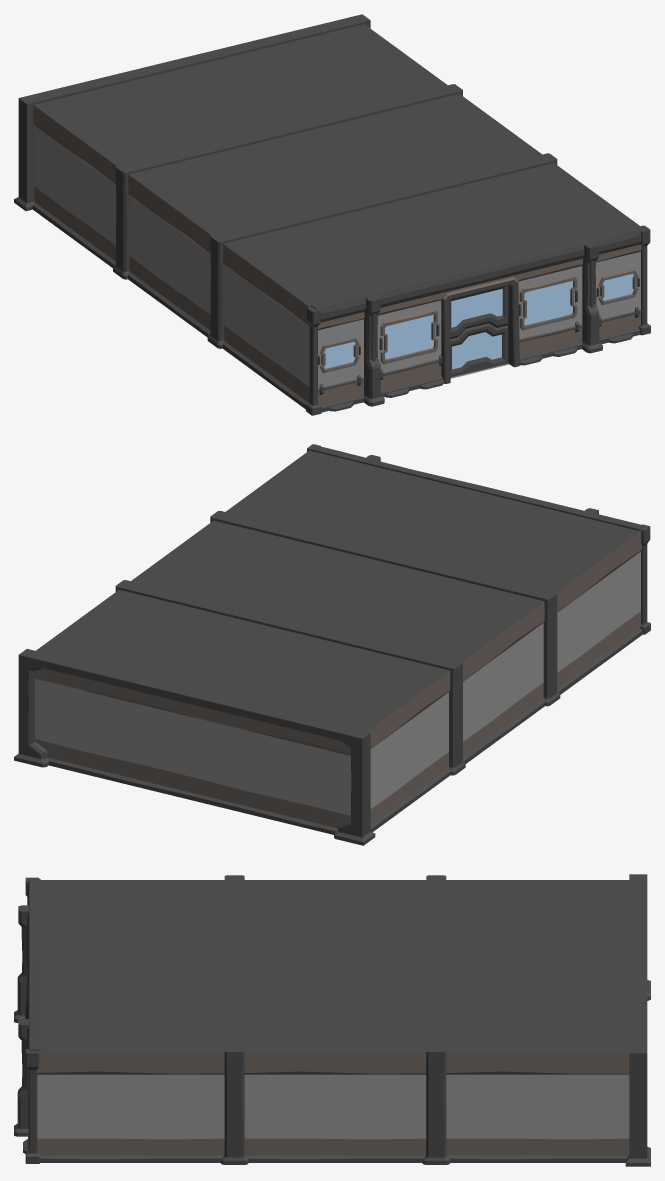
File: SM_bld_bank_01.fbx
The picture shows the model from 3 angles, top to bottom: view 1: azimuth 30°, elevation 25°; view 2: azimuth 150°, elevation 25°; view 3: azimuth 270°, elevation 25°; orthographic projection. The views are drawn at different scales.
Parts seen in each view (by area): view 1: SM_Bld_Bank_01; view 2: SM_Bld_Bank_01; view 3: SM_Bld_Bank_01.
Boxes of the visible parts, x1,y1,x2,y2 form: SM_Bld_Bank_01: [14, 14, 650, 415]; SM_Bld_Bank_01: [14, 444, 650, 845]; SM_Bld_Bank_01: [14, 874, 650, 1166].
Size of the model in its own units: 1067 by 307 by 1579.
